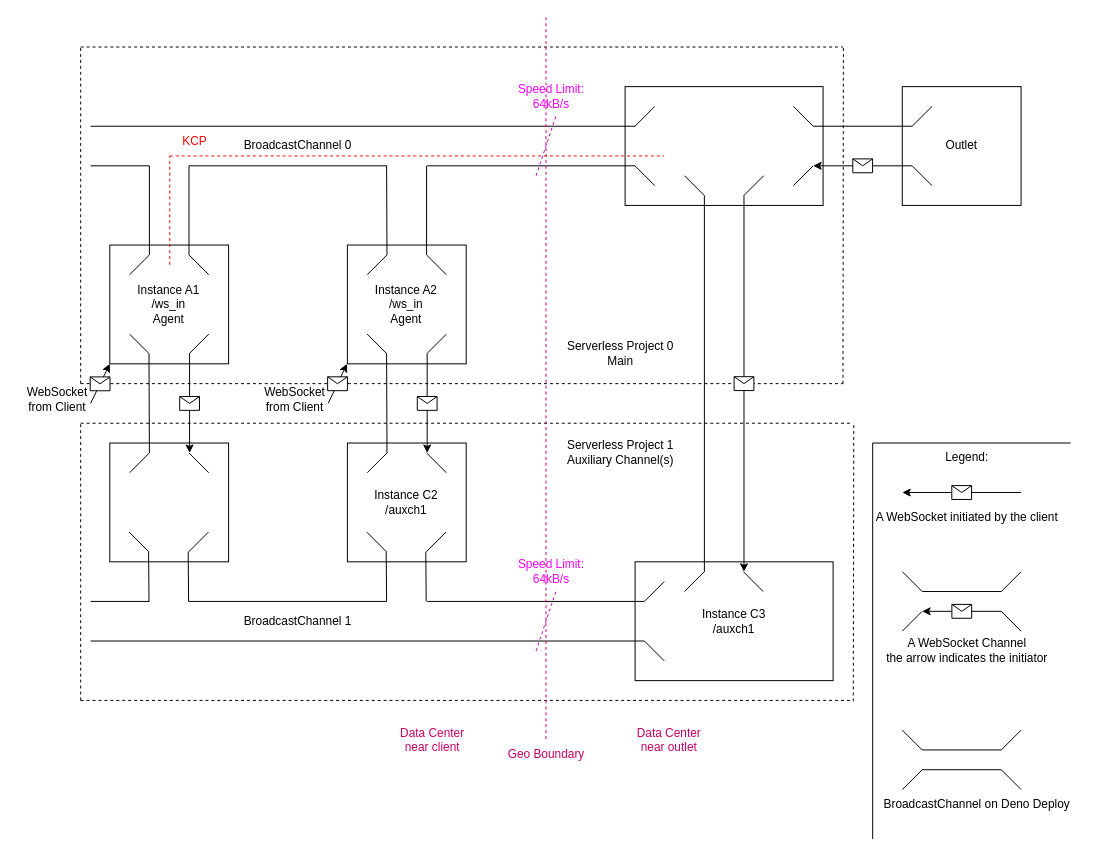
This 1097x857 diagram has some shape labels left out. The centre of each missing label's shape, as x and y in pixels:
"Instance A0 /ws_out Forwarder" goes at [723,145].
"Instance C1 /auxch1" goes at [169,502].
